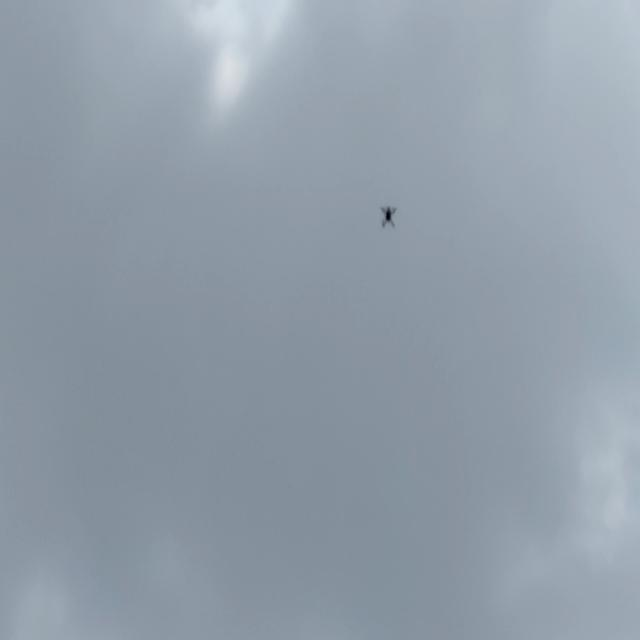drone: (375, 193, 402, 236)
